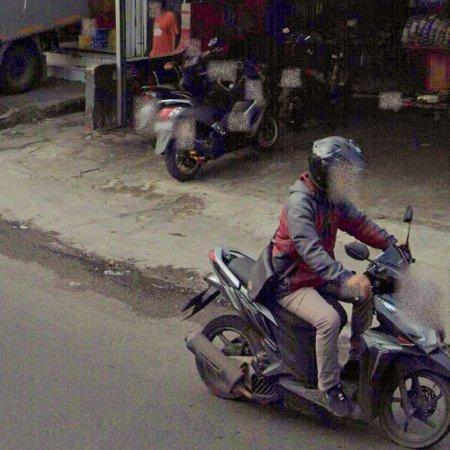motorcycles: (187, 247, 334, 418), (342, 243, 450, 450)
